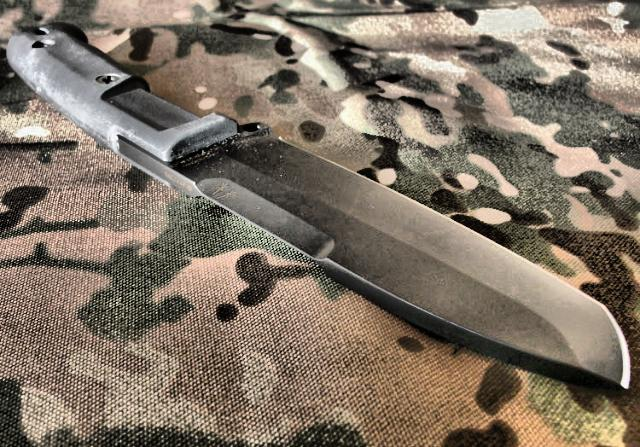knife: (140, 108, 640, 408)
